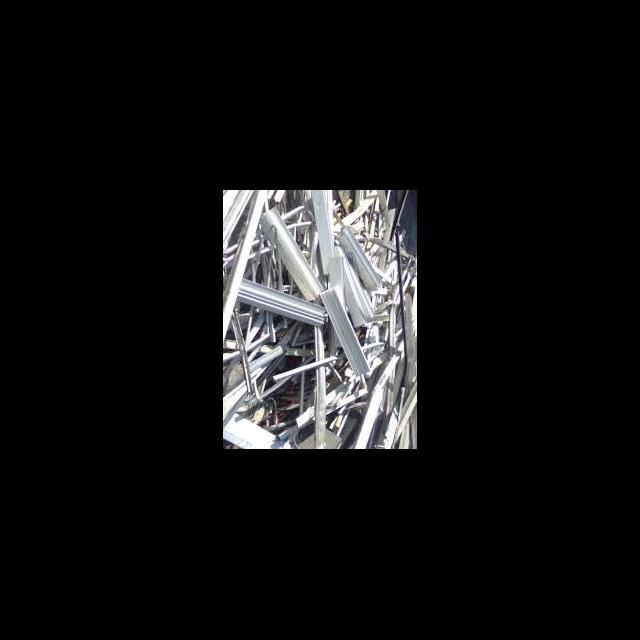metal: (310, 282, 386, 386), (253, 204, 326, 300), (223, 268, 331, 332), (298, 318, 335, 448), (301, 190, 348, 282), (335, 220, 383, 294)
